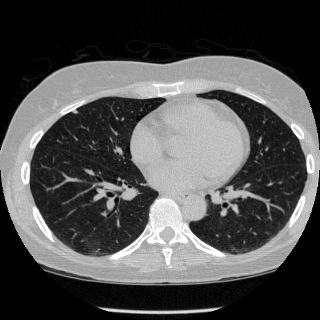nodule: (73, 110, 77, 114)
